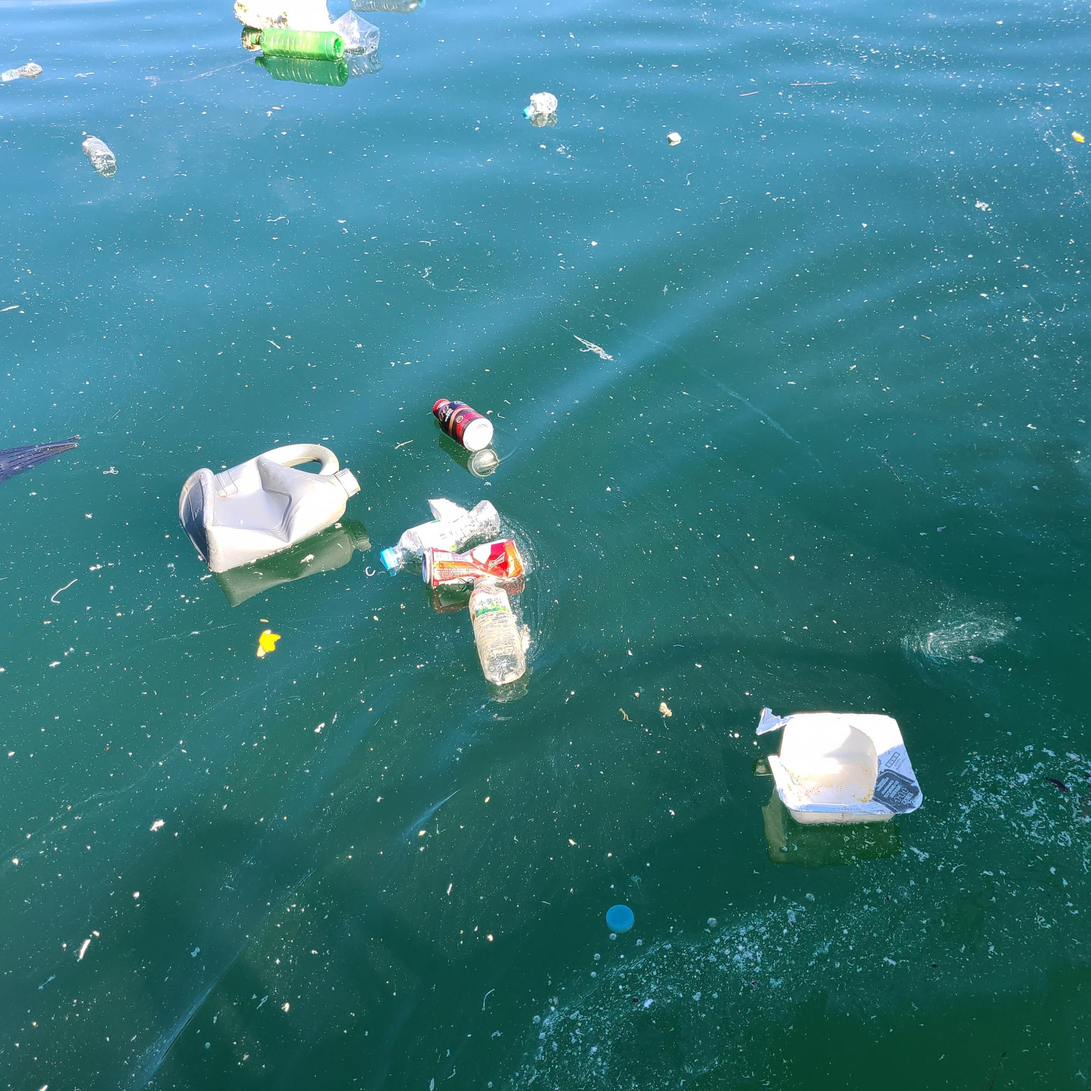sampah_terapung: (178, 444, 362, 573), (756, 707, 923, 824), (381, 500, 501, 570), (469, 577, 526, 684), (422, 540, 526, 591), (1, 435, 81, 482), (433, 399, 494, 452), (251, 28, 345, 62), (235, 1, 329, 31), (330, 11, 380, 55), (82, 139, 117, 173), (429, 498, 468, 522), (523, 92, 558, 117), (12, 63, 43, 78)
